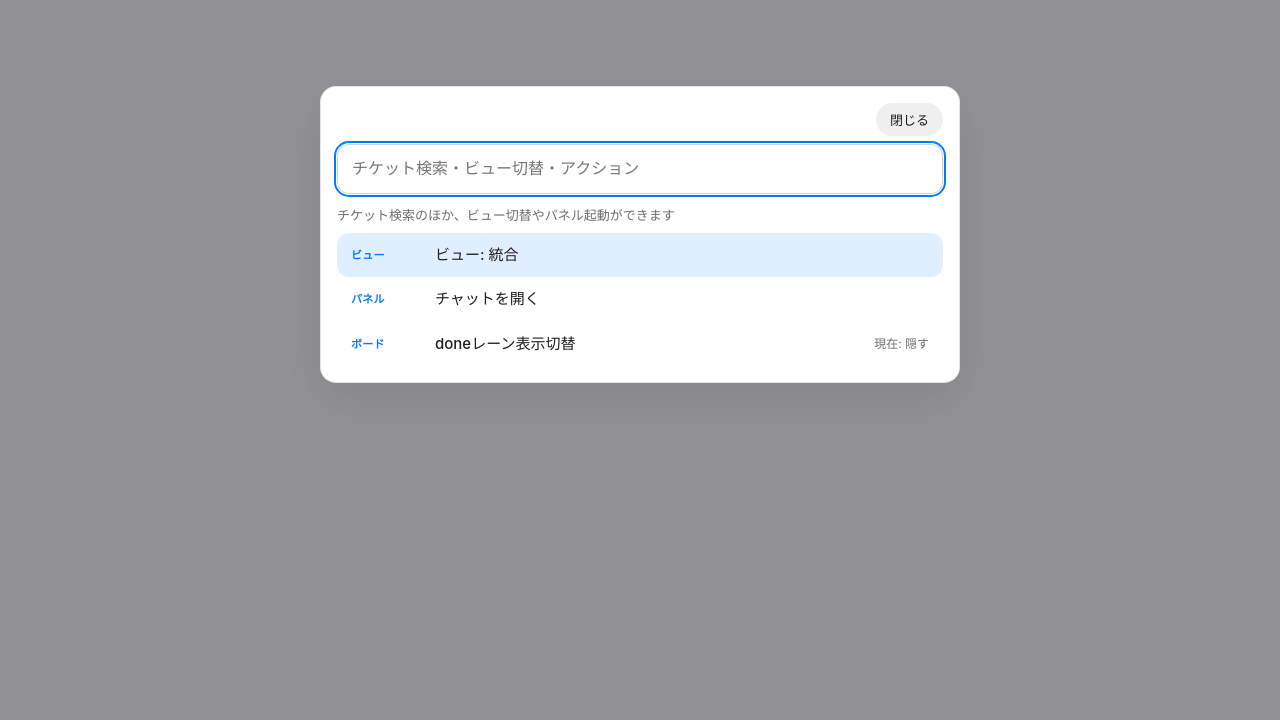
Test case: SearchPalette › lists matching actions before ticket hits when both match
Type "alpha" into the search field named "検索クエリ" at (640, 169), box [337,144,943,194]
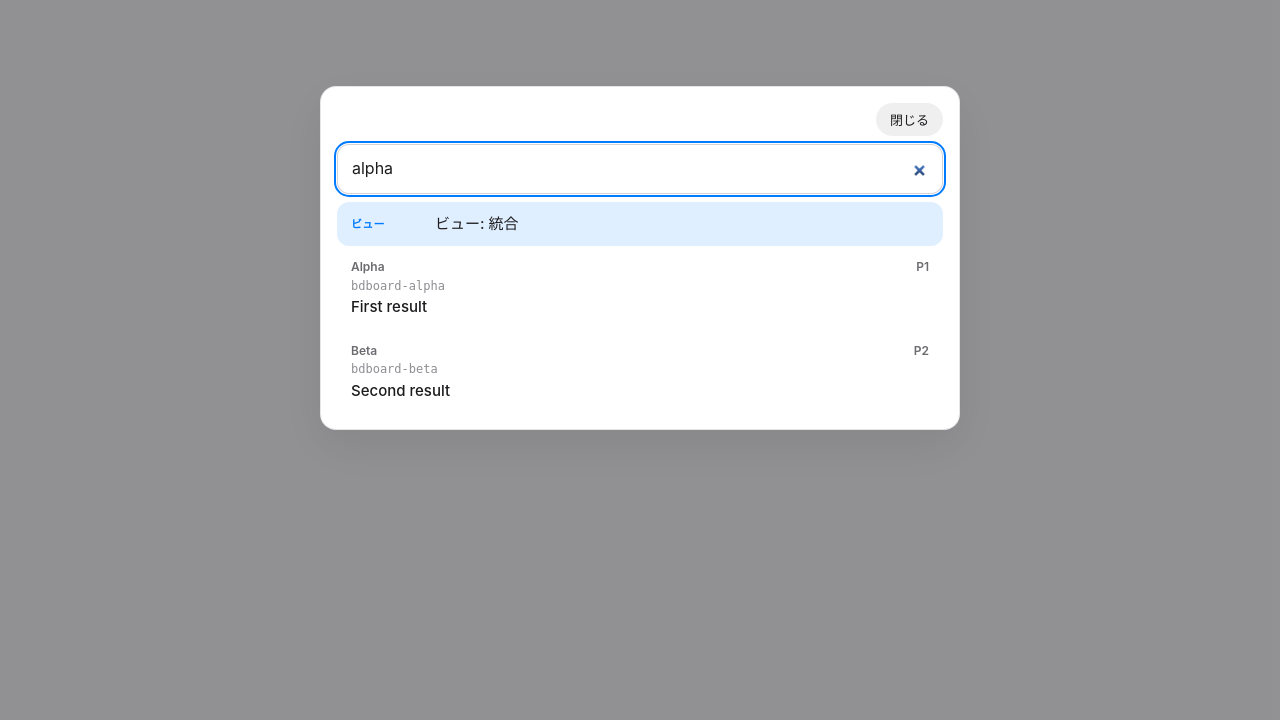
Expected: the option "ビュー ビュー: 統合" is shown, [337,202,943,246]
Now the text "First result" is shown, box [351,297,427,316]
